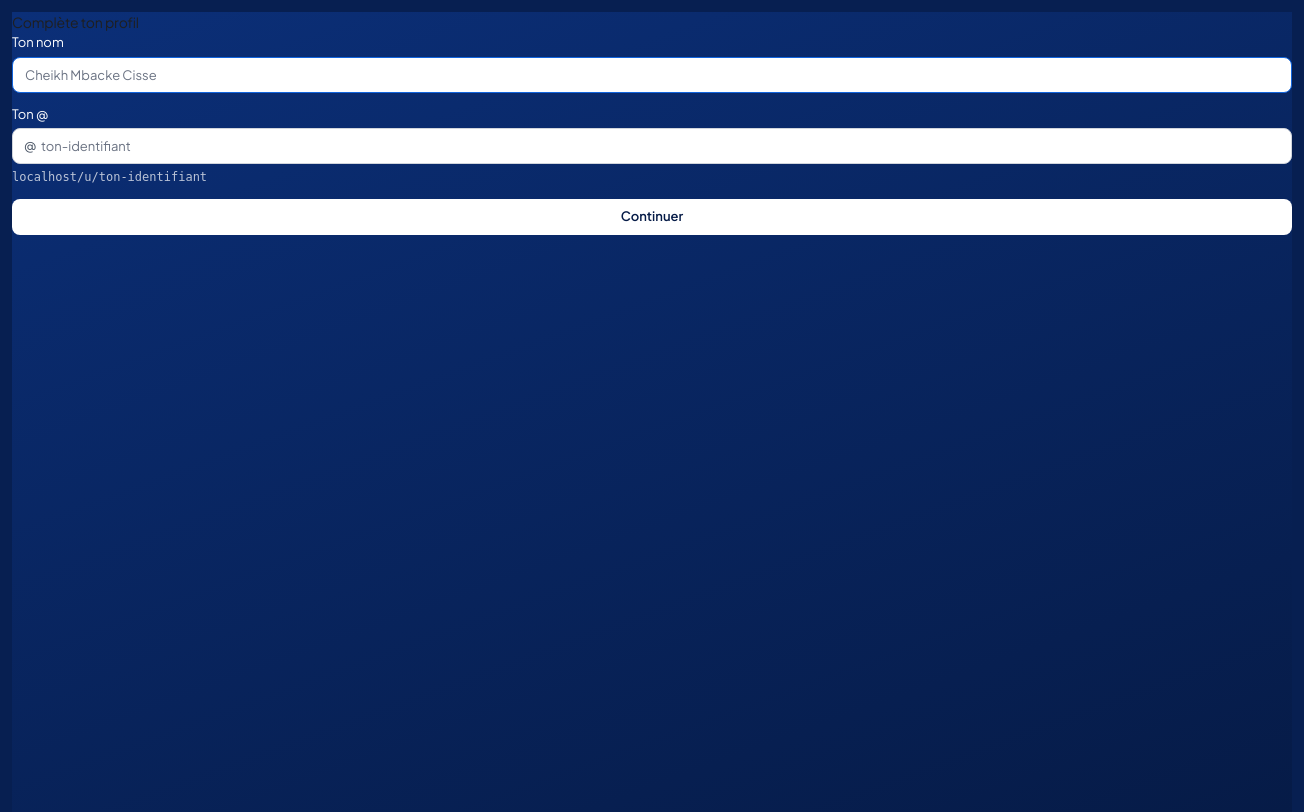
Test case: CompleteProfilePage › dit si le @ est libre ou déjà pris, une fois la frappe arrêtée
Type "awa-ndiaye" into the field labelled "Ton @".
click(652, 146); type("awa-ndiaye")  # box [12,128,1292,164]
Wait 400 ms
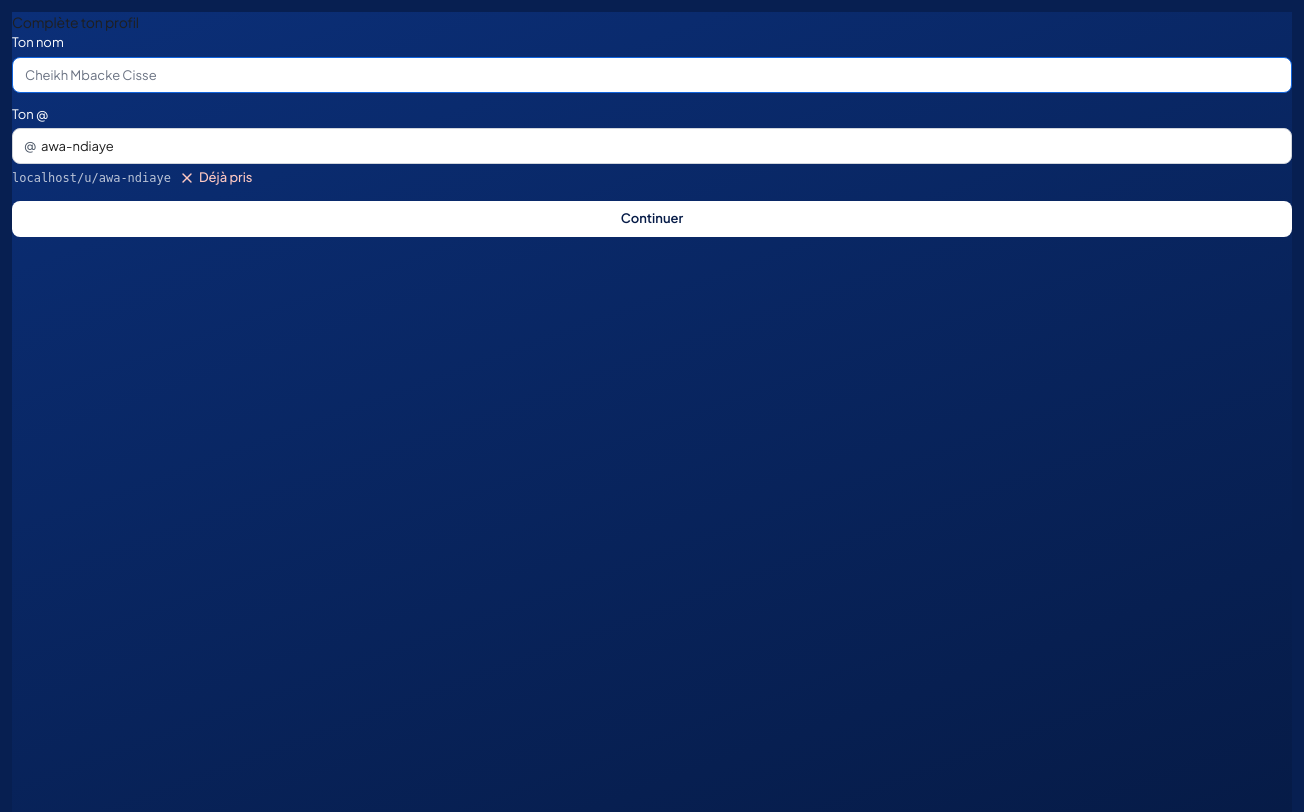
Expected: the text "Déjà pris" is shown, [179,168,252,188]
